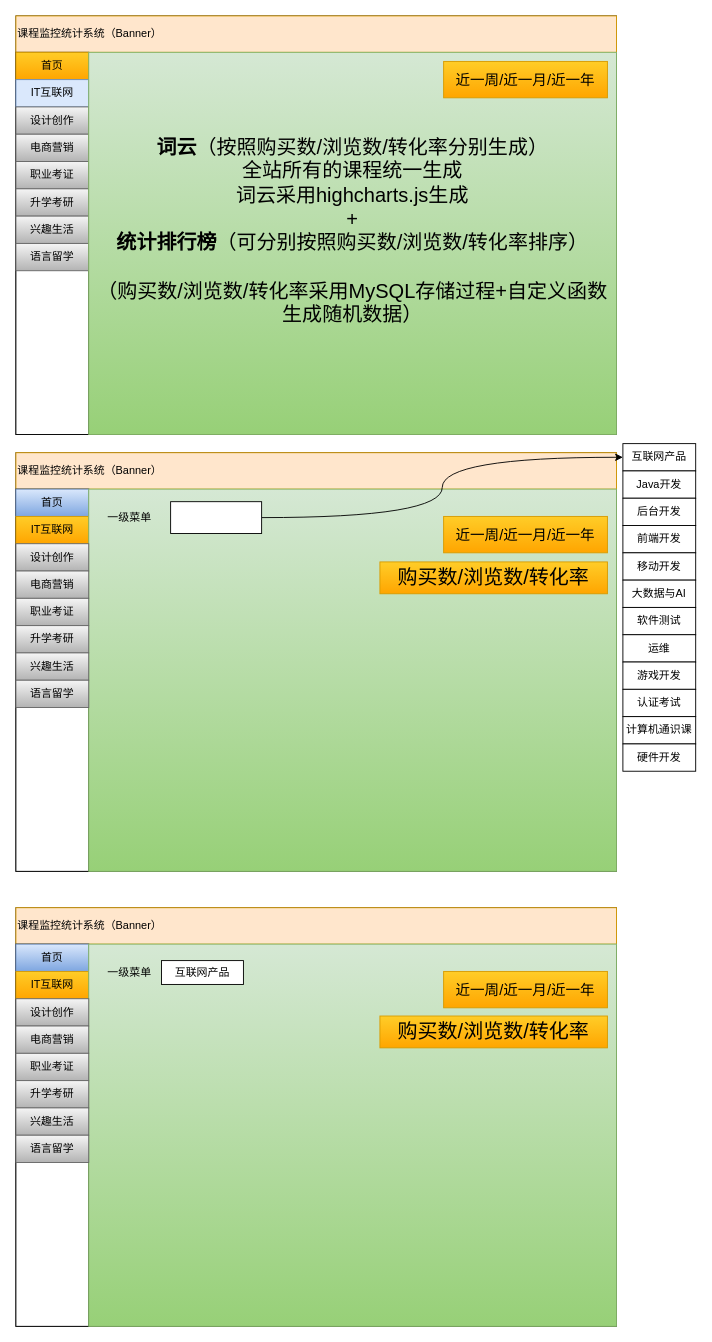
Some shapes in this 712 by 1342 pixel diagram are drawn without their labels. The shapes that lost their labels are listed below. From the top down, each one's box as (x1, y1, x2, y2) in pixels, then its label:
(170, 501, 262, 534): 未选中一级菜单
(88, 488, 617, 871): 默认未选择任何模块， 会生成 IT 互联网 整个范围的课程统计信息 词云图 + 统计排行榜
(88, 943, 617, 1326): 生成折线图，选取该模块下的 前三模块
